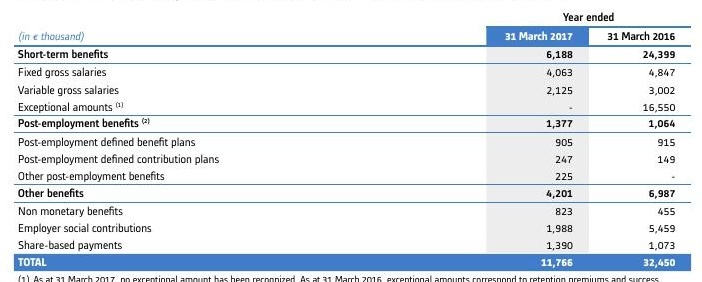table: (0, 0, 702, 282)
